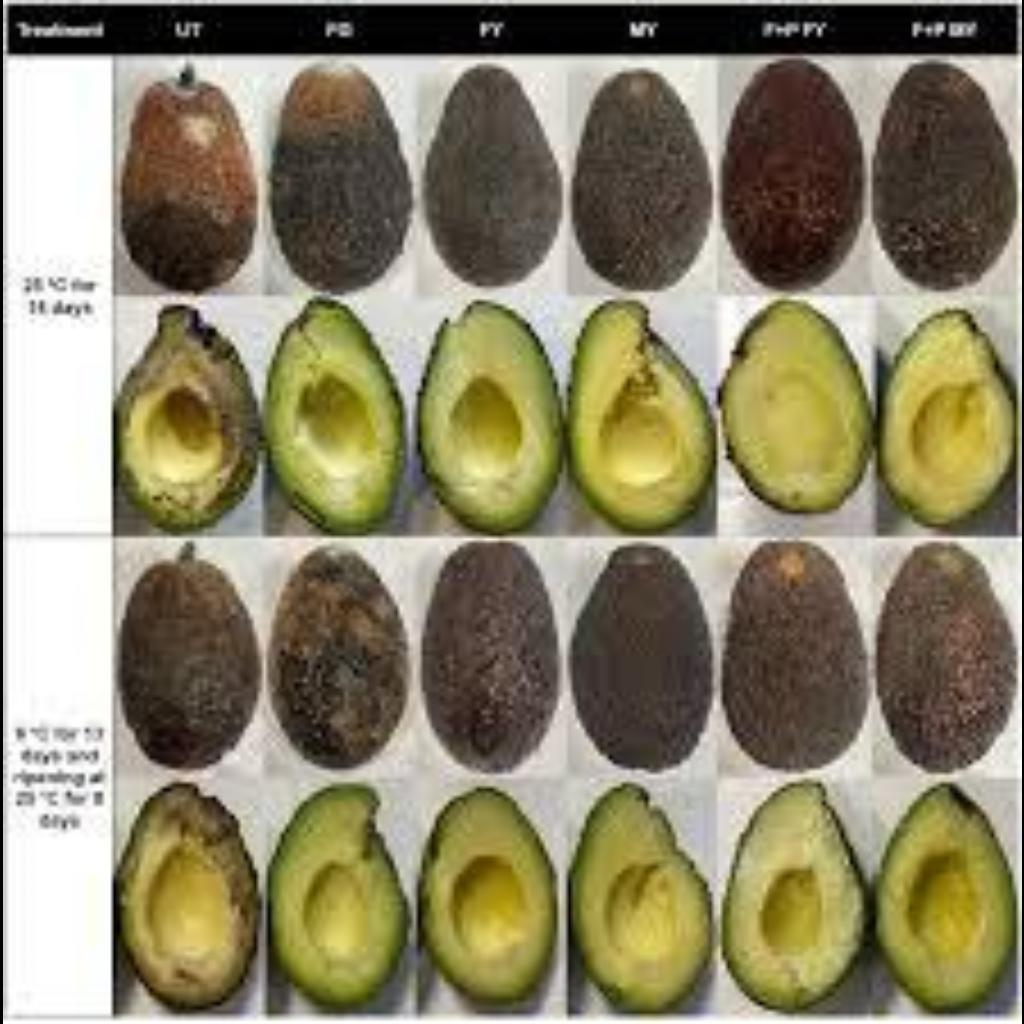antracnosis_fruto: (104, 772, 259, 1013), (116, 296, 257, 528), (266, 548, 420, 757), (123, 89, 255, 285)
